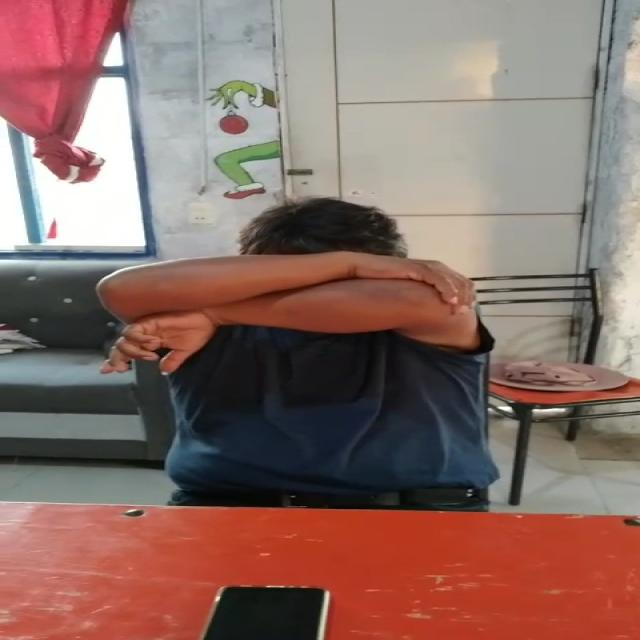7_mano_rostro: (218, 251, 408, 345)
